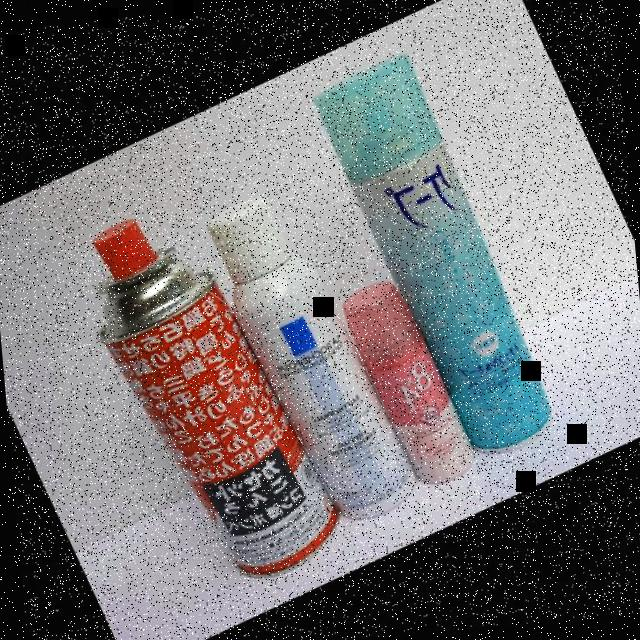chemical_spray_can: (314, 52, 552, 452), (93, 218, 338, 576), (207, 195, 416, 519), (344, 281, 474, 483)
